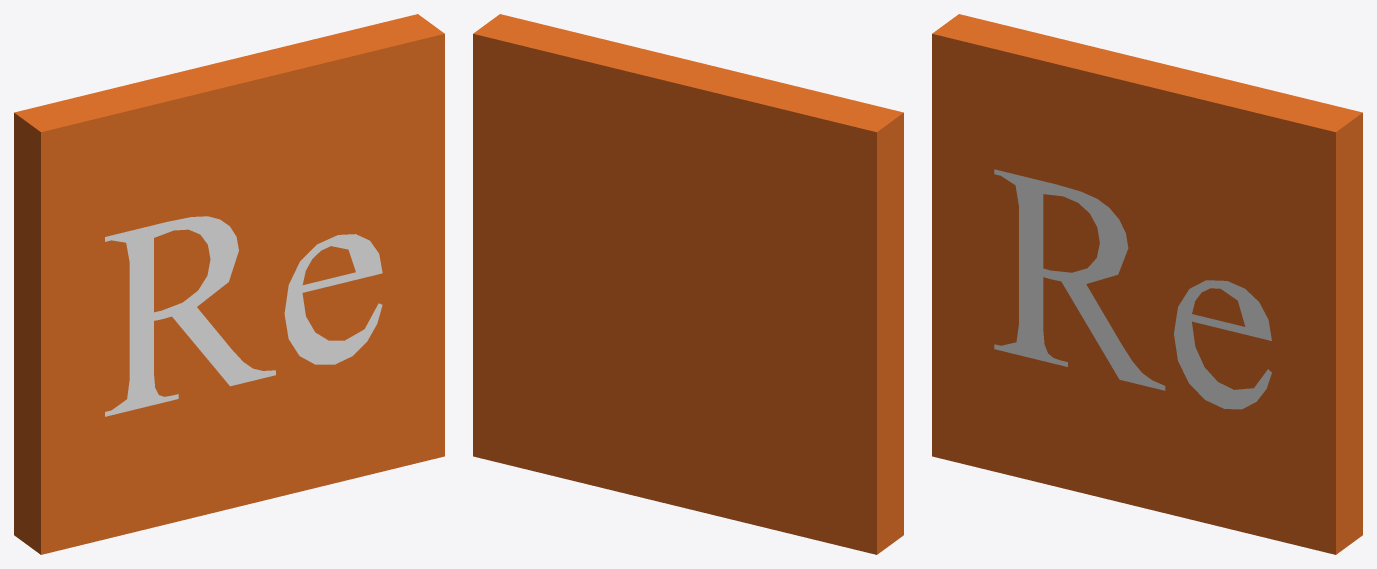
The picture shows the model from 3 angles, left to right: view 1: azimuth 30°, elevation 25°; view 2: azimuth 150°, elevation 25°; view 3: azimuth 330°, elevation 25°; orthographic projection.
Parts seen in each view (by area): view 1: Re; view 2: Re; view 3: Re.
Boxes of the visible parts, <box> form: Re: <box>14,14,444,554</box>; Re: <box>473,14,903,554</box>; Re: <box>932,14,1362,554</box>.
Size of the model in its own units: 15.64 by 15.64 by 1.87.
